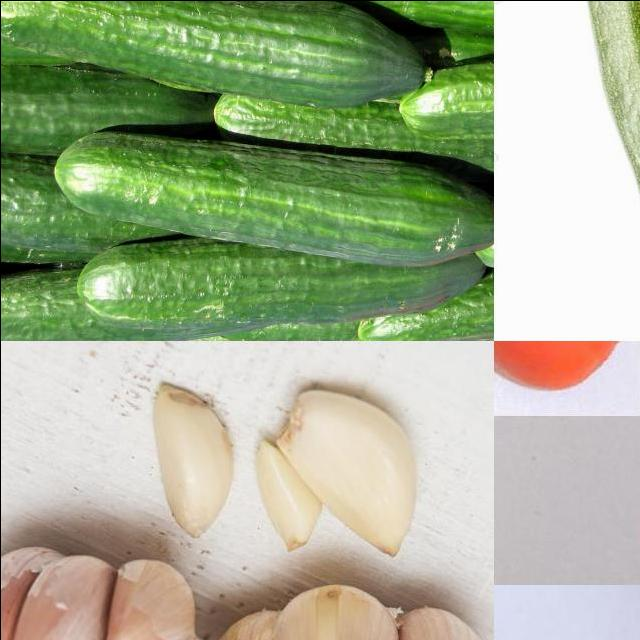cucumber: (55, 134, 494, 269), (1, 1, 429, 110), (73, 243, 489, 329), (395, 54, 494, 148)
garlic: (275, 384, 421, 560), (1, 539, 205, 640), (150, 380, 236, 541), (249, 431, 321, 552)
tomato: (494, 341, 640, 416)
zucchini: (566, 1, 640, 341)
